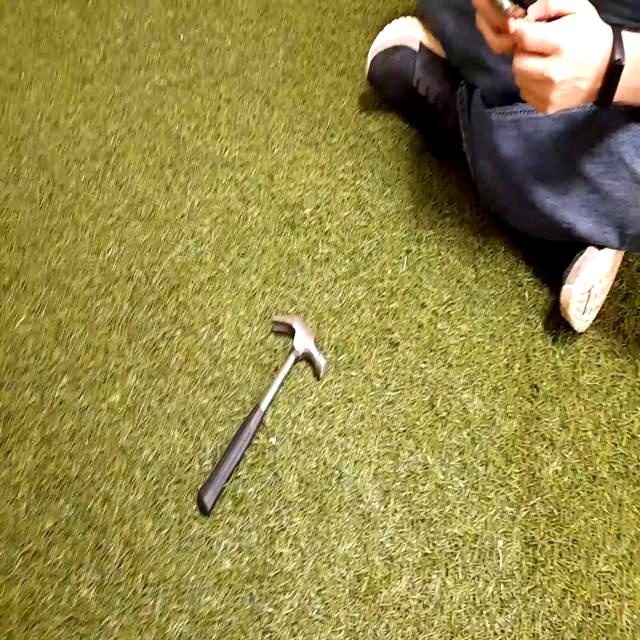hammer: (186, 312, 330, 524)
